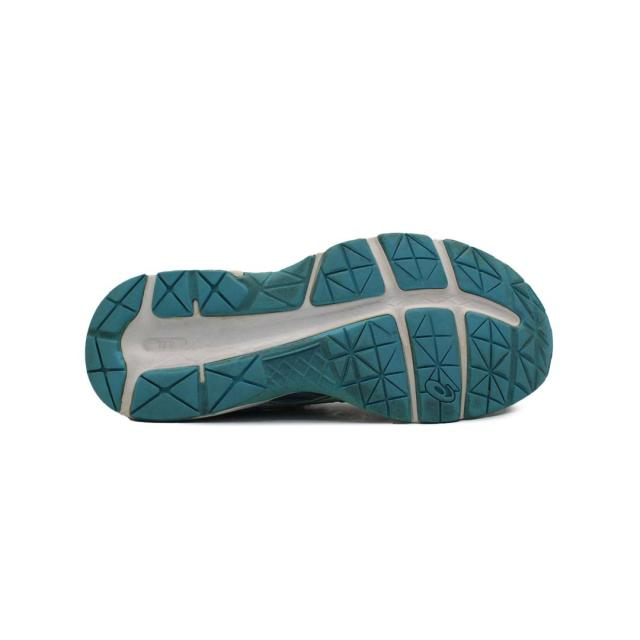outersole: (69, 231, 546, 420)
